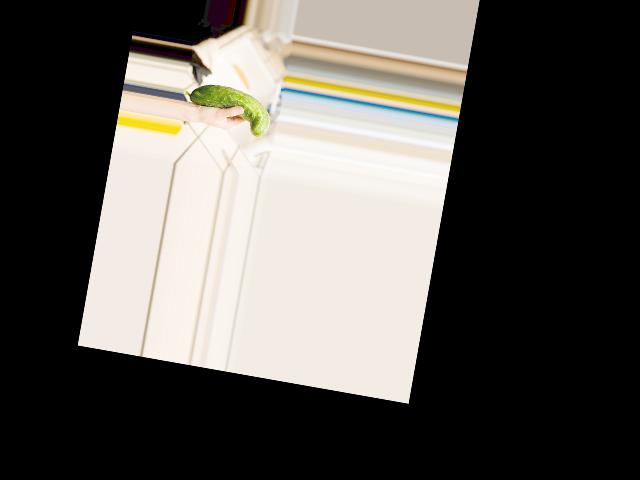cucumber: (179, 78, 274, 138)
